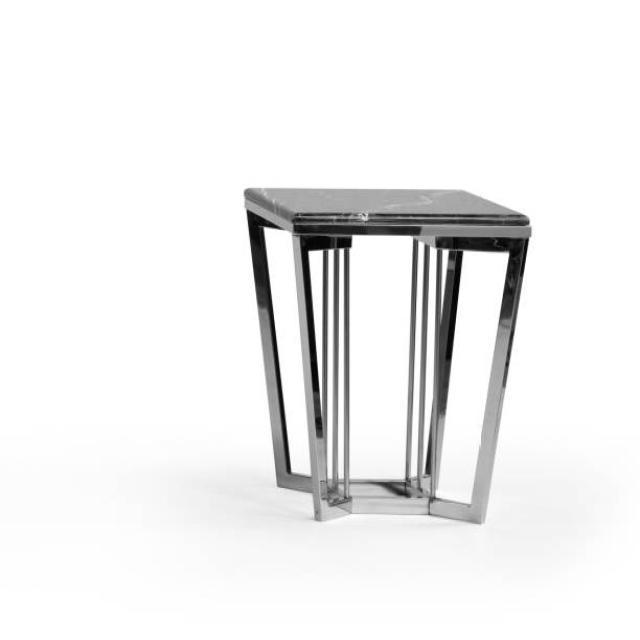table: (243, 185, 532, 525)
